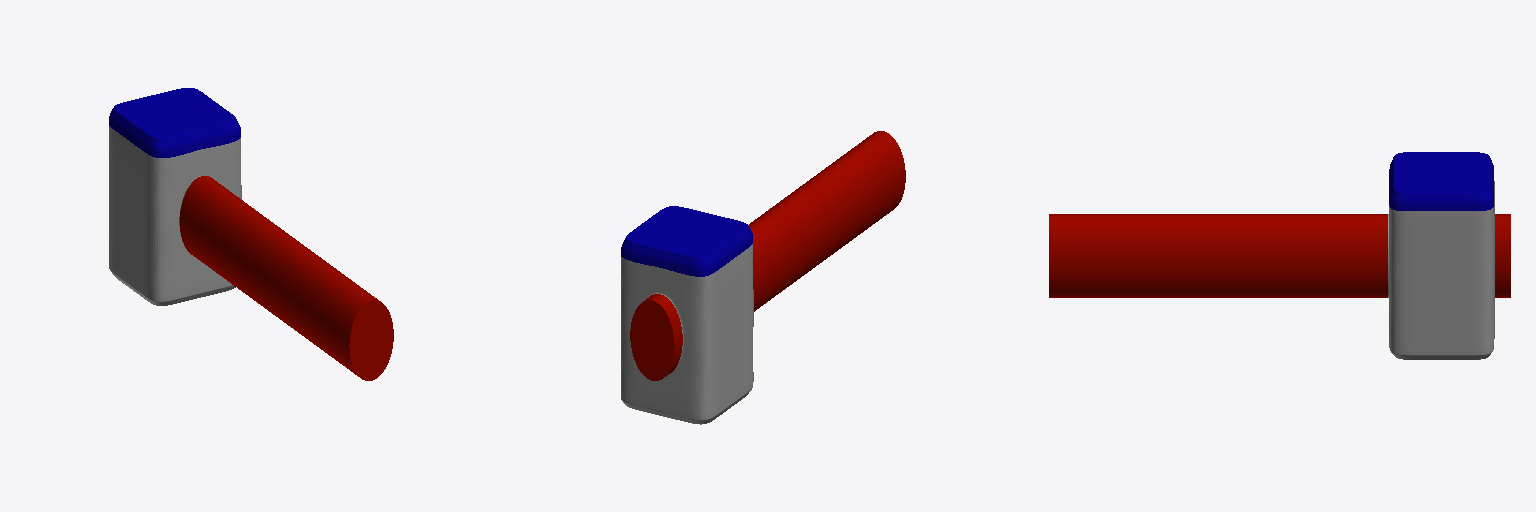
Rendered from hammer2.obj.
The picture shows the model from 3 angles: view 1: azimuth 30°, elevation 25°; view 2: azimuth 150°, elevation 25°; view 3: azimuth 270°, elevation 25°; orthographic projection.
Parts seen in each view (by area): view 1: Cube; view 2: Cube; view 3: Cube.
Part boxes in pixels (bbox=[...]): Cube: bbox=[109, 88, 393, 380]; Cube: bbox=[621, 131, 905, 424]; Cube: bbox=[1049, 152, 1510, 359].
Size of the model in its own units: 3.37 by 5.9 by 14.76.